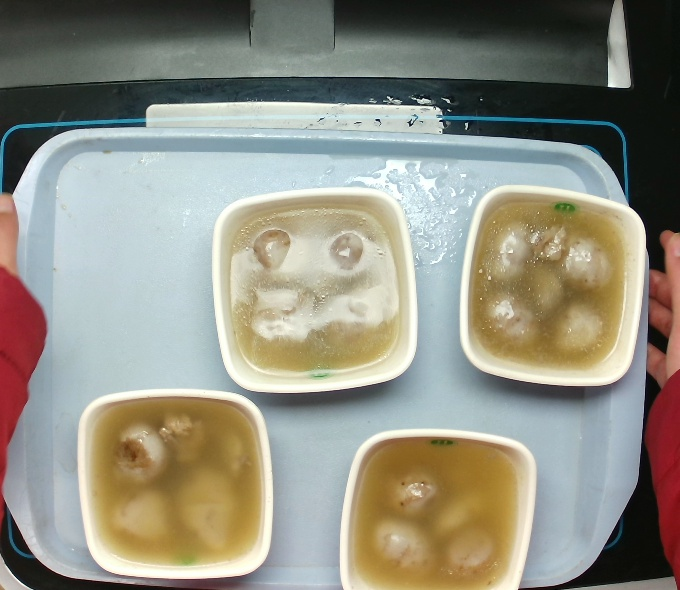wcq-YuTouTang: (227, 199, 402, 376), (88, 396, 264, 567), (467, 199, 629, 374), (348, 437, 520, 590)
